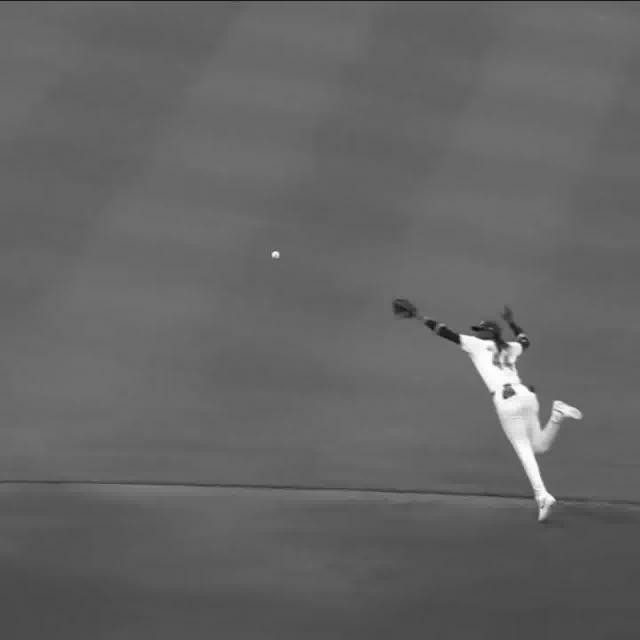baseball: (270, 250, 280, 259)
baseball_glove: (390, 297, 421, 323)
shoe: (550, 399, 582, 419), (539, 497, 555, 525)
